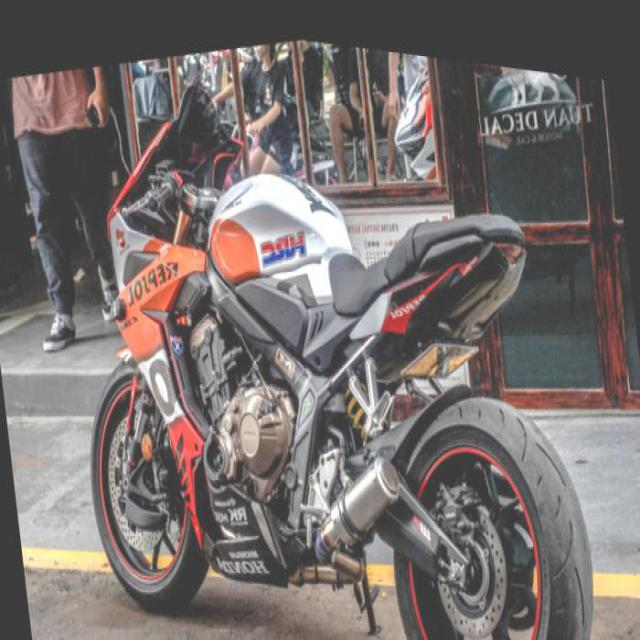CBR650R: (48, 4, 607, 639)
